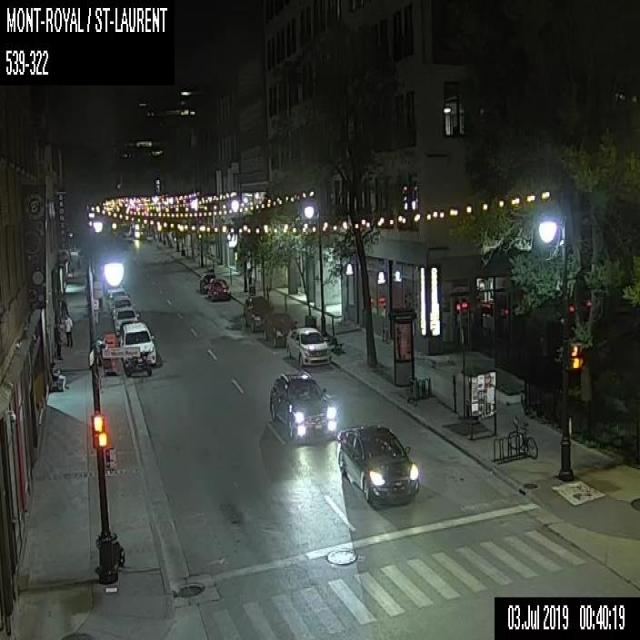pedestrian: (50, 355, 65, 392), (62, 312, 73, 347)
vehicle: (338, 422, 418, 506), (268, 369, 336, 439), (285, 326, 331, 366), (120, 321, 156, 362), (242, 293, 274, 331), (262, 312, 297, 346), (124, 350, 152, 378), (113, 306, 139, 335), (208, 278, 231, 300), (111, 295, 132, 317), (108, 286, 129, 305), (199, 272, 215, 292)
